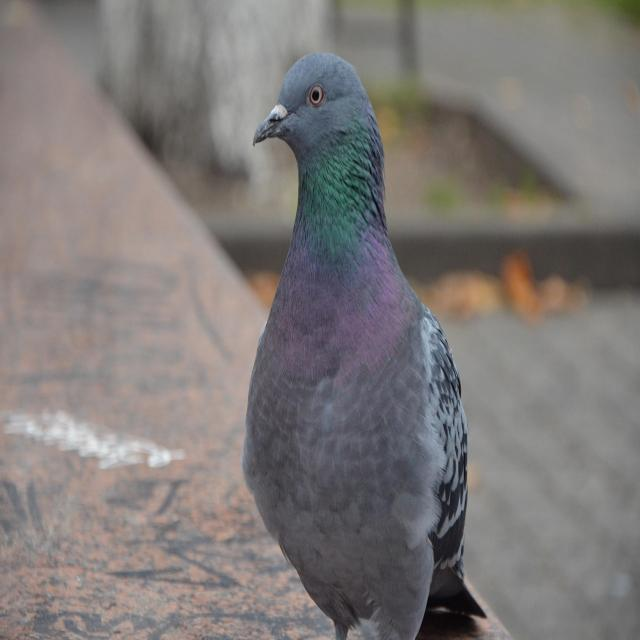pegion: (213, 38, 505, 627)
